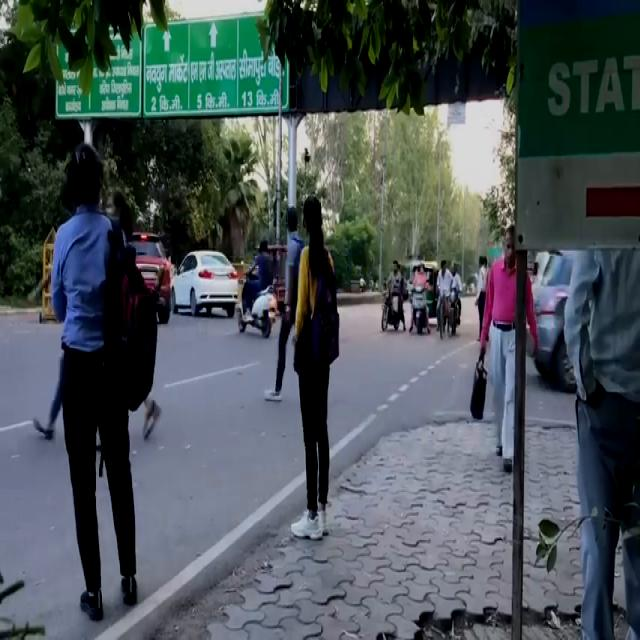MOTORCYCLE: (235, 272, 279, 332), (410, 280, 428, 333)
